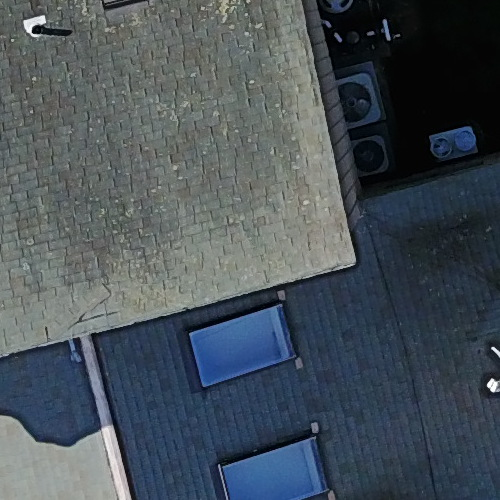air conditioner: (318, 59, 386, 138), (339, 128, 401, 187)
container: (450, 128, 480, 156), (429, 135, 455, 160)
no larvae: (427, 133, 453, 158), (453, 130, 479, 155)
